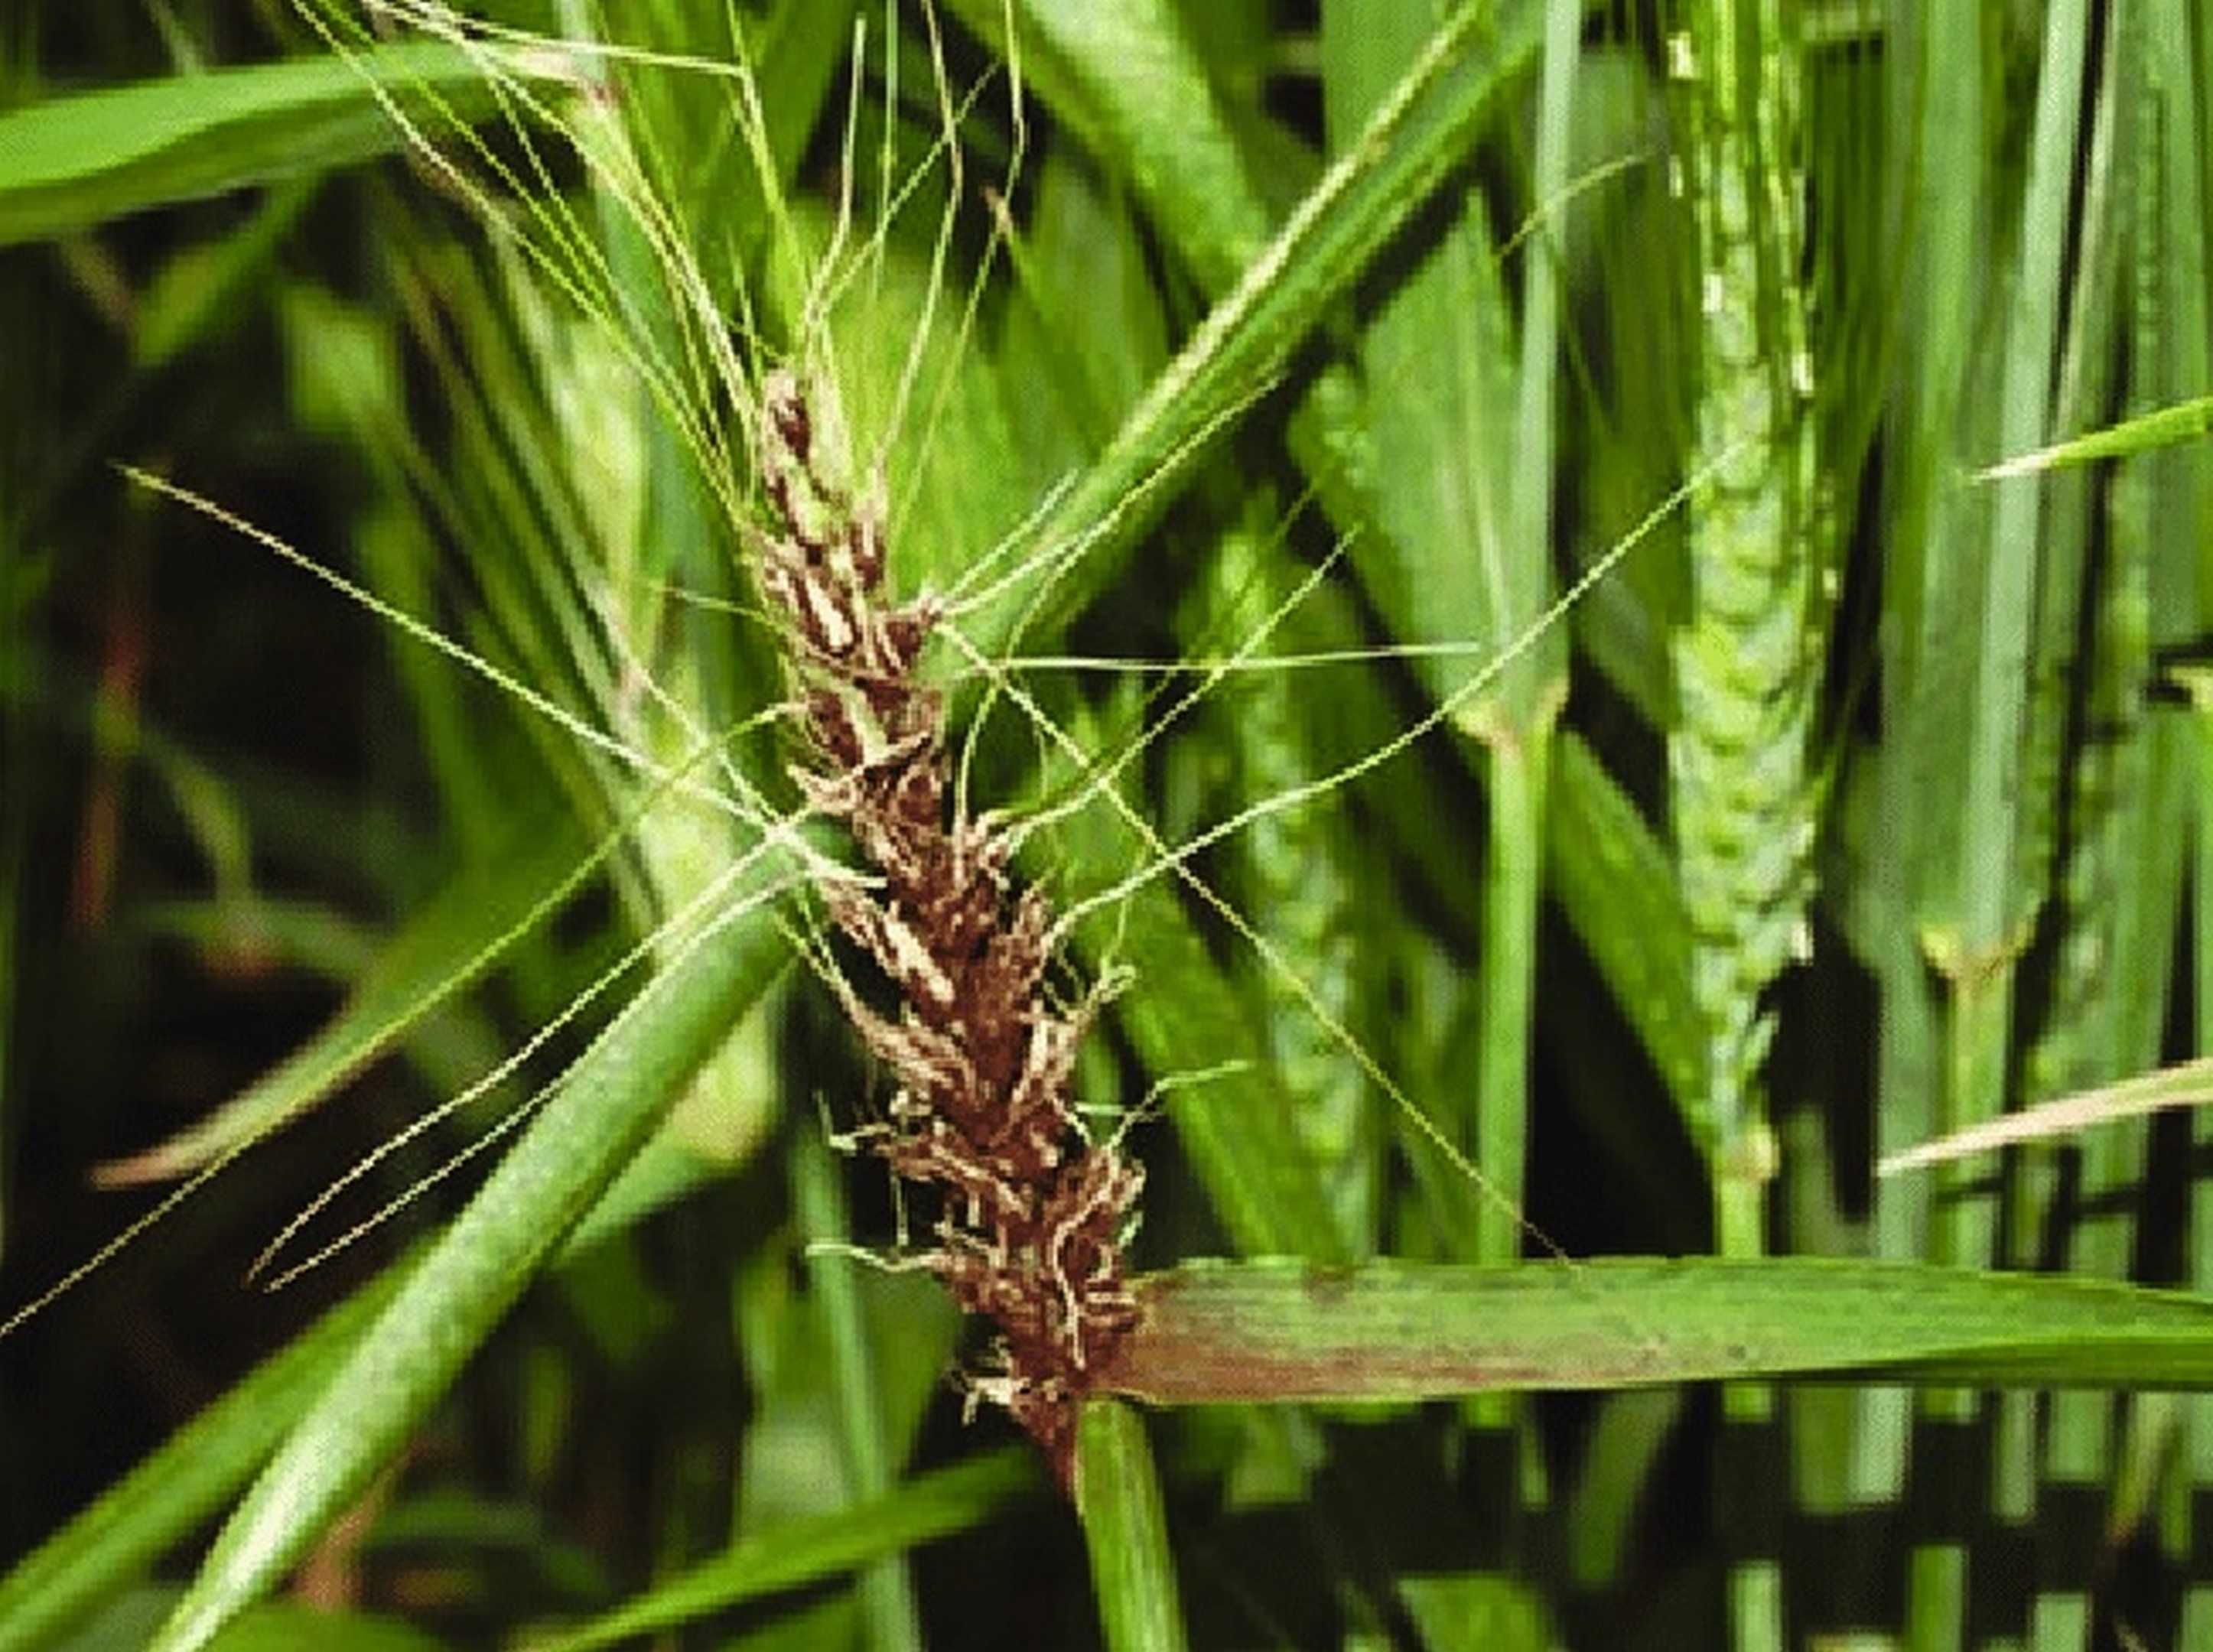Wheat Loose Smut: (699, 390, 1161, 1407)
